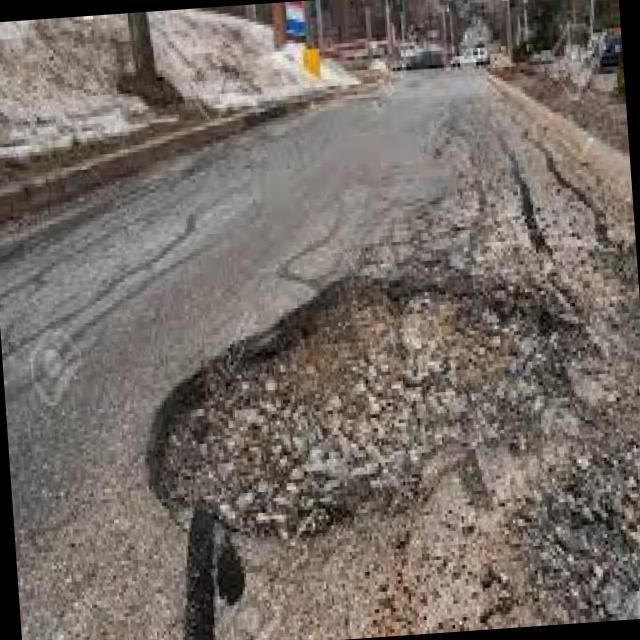-: (159, 277, 549, 562)
